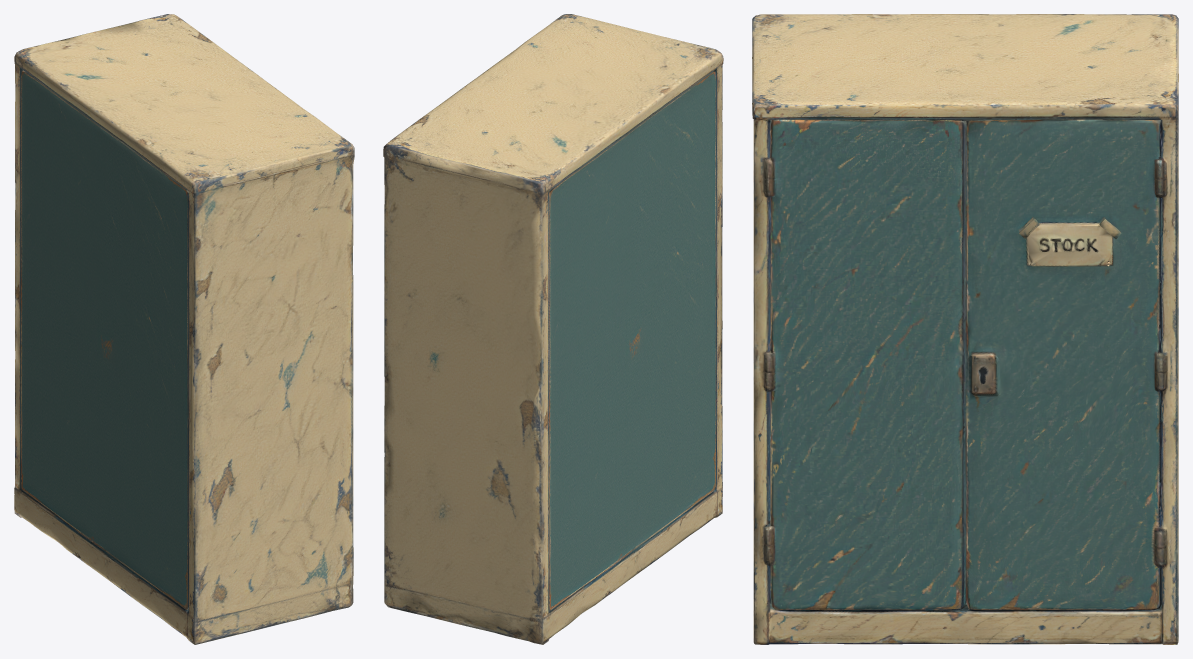
File: TallStorageCupboard.fbx
The picture shows the model from 3 angles, left to right: view 1: azimuth 30°, elevation 25°; view 2: azimuth 150°, elevation 25°; view 3: azimuth 270°, elevation 25°; orthographic projection. The views are drawn at different scales.
Parts seen in each view (by area): view 1: tripo_node_58e074f2-50a8-4463-a359-ddac57c835e3; view 2: tripo_node_58e074f2-50a8-4463-a359-ddac57c835e3; view 3: tripo_node_58e074f2-50a8-4463-a359-ddac57c835e3.
Boxes of the visible parts, x1,y1,x2,y2 form: tripo_node_58e074f2-50a8-4463-a359-ddac57c835e3: [14, 14, 354, 644]; tripo_node_58e074f2-50a8-4463-a359-ddac57c835e3: [383, 14, 723, 644]; tripo_node_58e074f2-50a8-4463-a359-ddac57c835e3: [752, 14, 1178, 644].
Bounding box in the file's own units: 37.25 × 100 × 71.14.
Materials: 1 (1 with a texture image).
